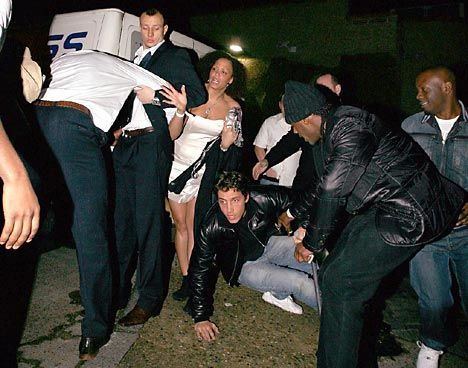fall: (186, 165, 329, 348)
